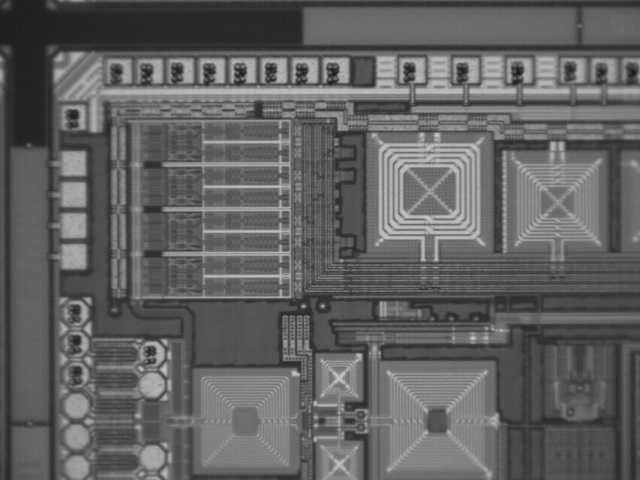over: (103, 57, 133, 88), (134, 56, 164, 87), (165, 55, 195, 86), (196, 54, 226, 85), (227, 55, 257, 86), (258, 54, 288, 85), (289, 53, 319, 84), (320, 54, 350, 85), (396, 54, 426, 85), (450, 54, 480, 85), (504, 54, 534, 85), (557, 53, 587, 84), (588, 54, 618, 85), (58, 100, 88, 131), (59, 297, 89, 328), (59, 328, 89, 359), (59, 359, 89, 390), (135, 337, 165, 368), (618, 53, 639, 87)
